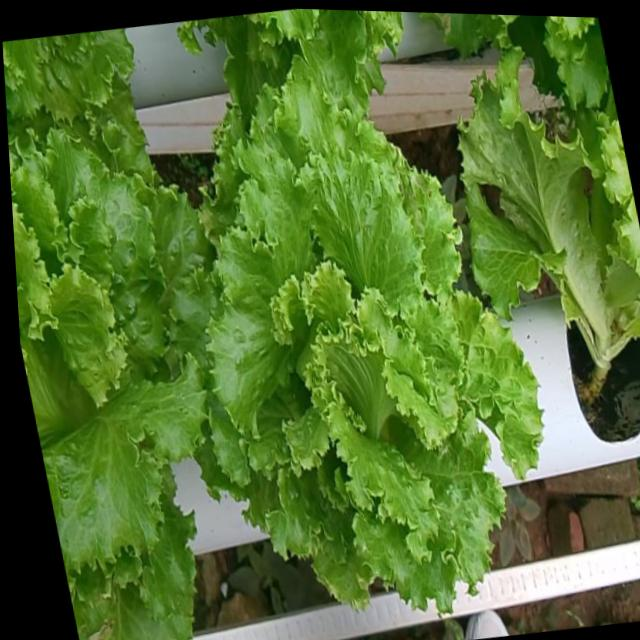Mature: (195, 91, 538, 623), (11, 139, 210, 586)
